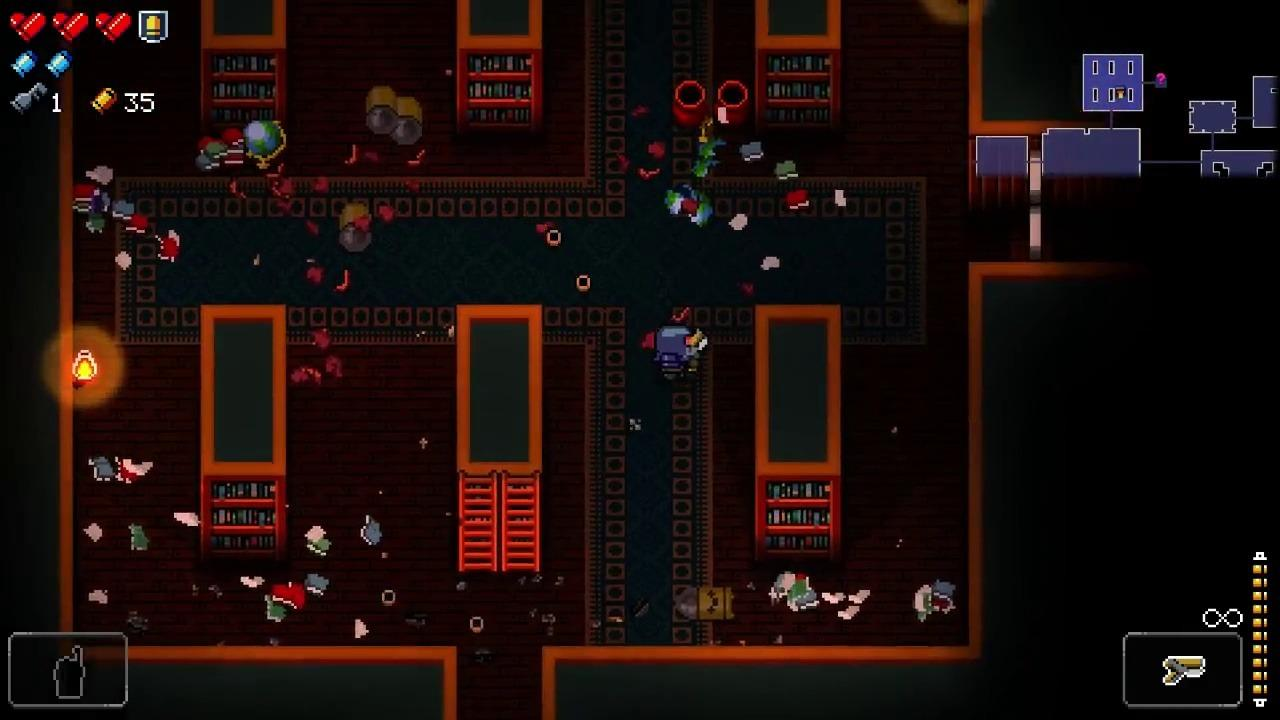dead_bullet_kin: (676, 586, 734, 620), (339, 200, 372, 252), (390, 93, 421, 146), (364, 86, 398, 134)
player: (657, 328, 697, 379)
unlocked_door: (1029, 141, 1041, 261)
